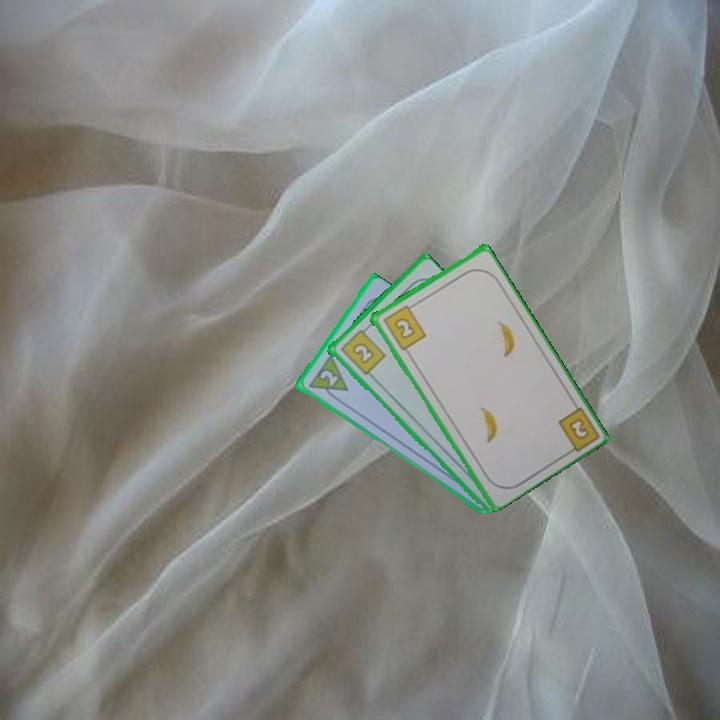2b: (337, 323, 388, 378), (379, 301, 428, 353), (565, 414, 592, 443)
2p: (316, 366, 341, 389)
